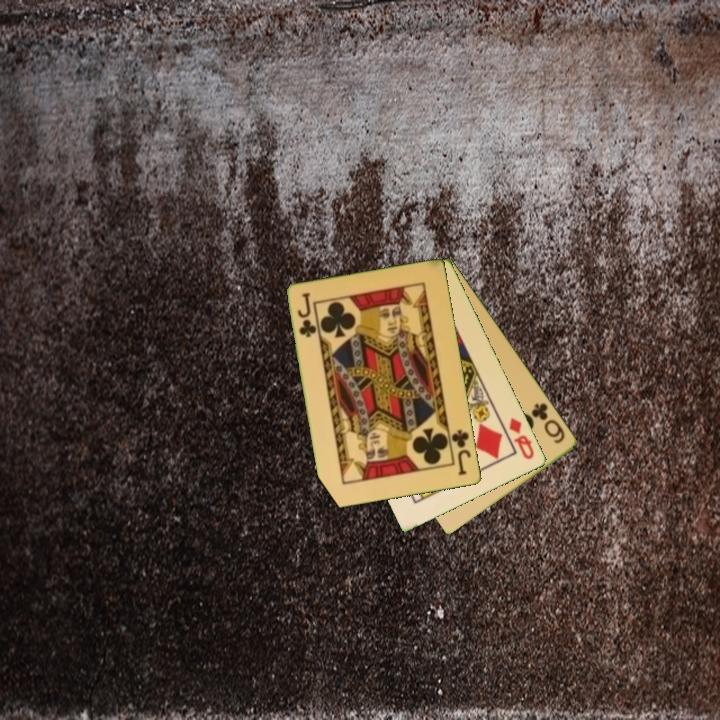6c: (528, 399, 568, 447)
Jc: (448, 426, 474, 478), (294, 289, 319, 341)
Qd: (506, 414, 537, 463)
